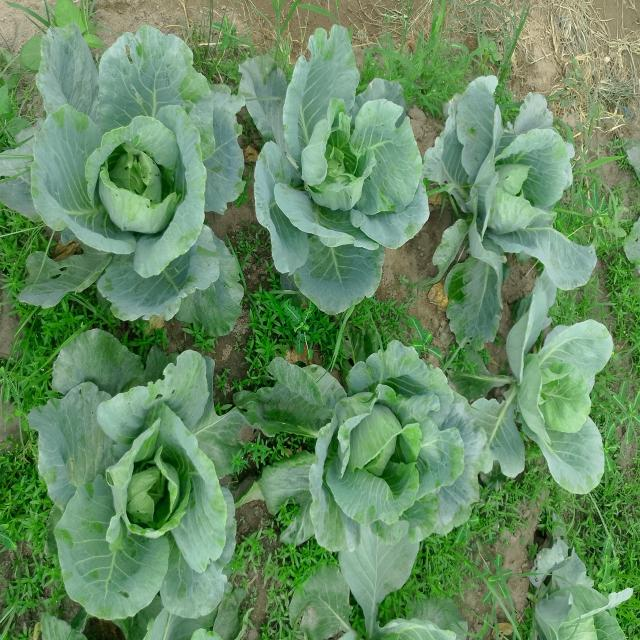Cabbage: (0, 26, 246, 337), (7, 326, 250, 640), (255, 330, 492, 630), (210, 20, 414, 296), (416, 52, 605, 301), (485, 303, 619, 492), (523, 528, 632, 640), (35, 595, 257, 640), (297, 586, 480, 640), (627, 91, 640, 293)
